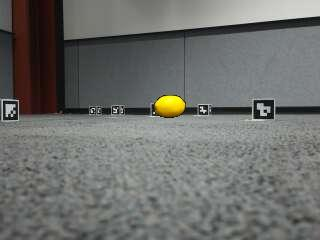lemon: (156, 95, 186, 117)
